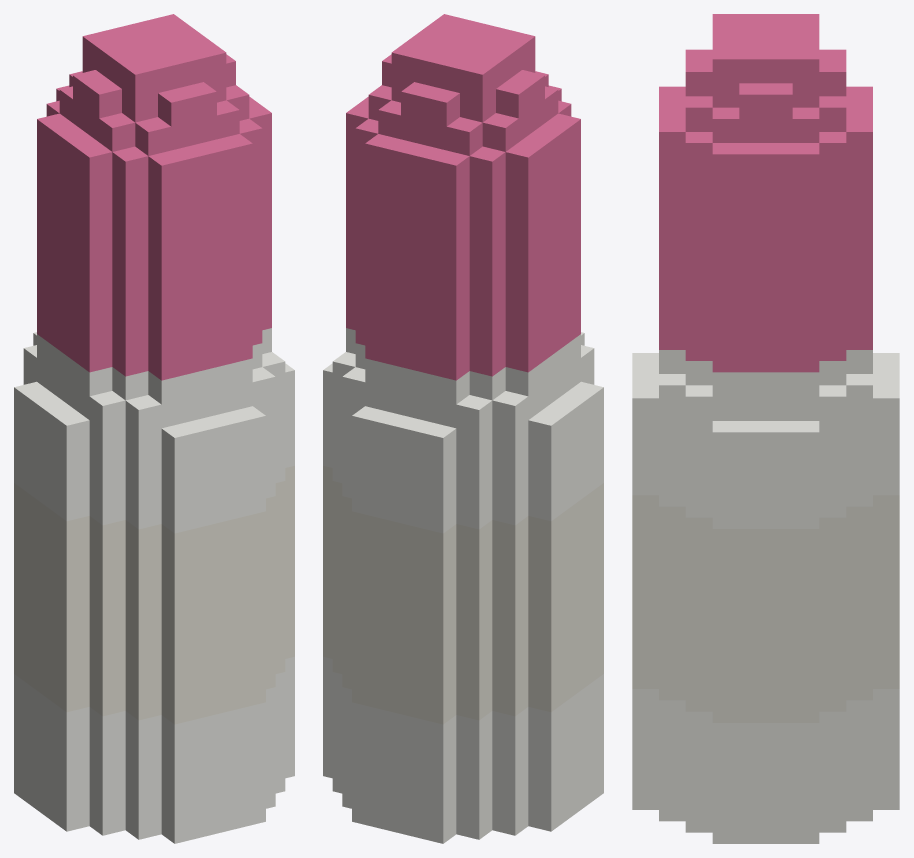
The model's file is steroid_eyedrops.glb.
3 views of the same model, side by side, from view 1: azimuth 30°, elevation 25°; view 2: azimuth 150°, elevation 25°; view 3: azimuth 270°, elevation 25° (orthographic).
Visible parts, largest first — view 1: steroid_eyedrops:compound; view 2: steroid_eyedrops:compound; view 3: steroid_eyedrops:compound.
Boxes of the visible parts, box(x1,y1,x2,y2) form: steroid_eyedrops:compound: box(14, 14, 294, 843); steroid_eyedrops:compound: box(323, 14, 603, 843); steroid_eyedrops:compound: box(632, 14, 899, 843).
Size of the model in its own units: 0.02 by 0.062 by 0.02.
